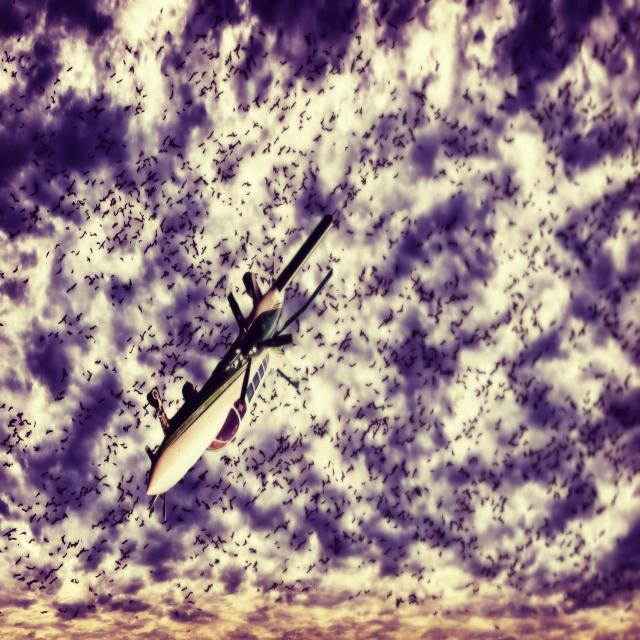airplane: (144, 211, 334, 524)
